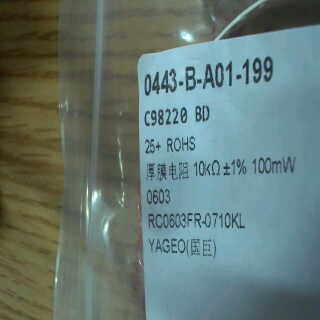10kR: (190, 158, 224, 180)
